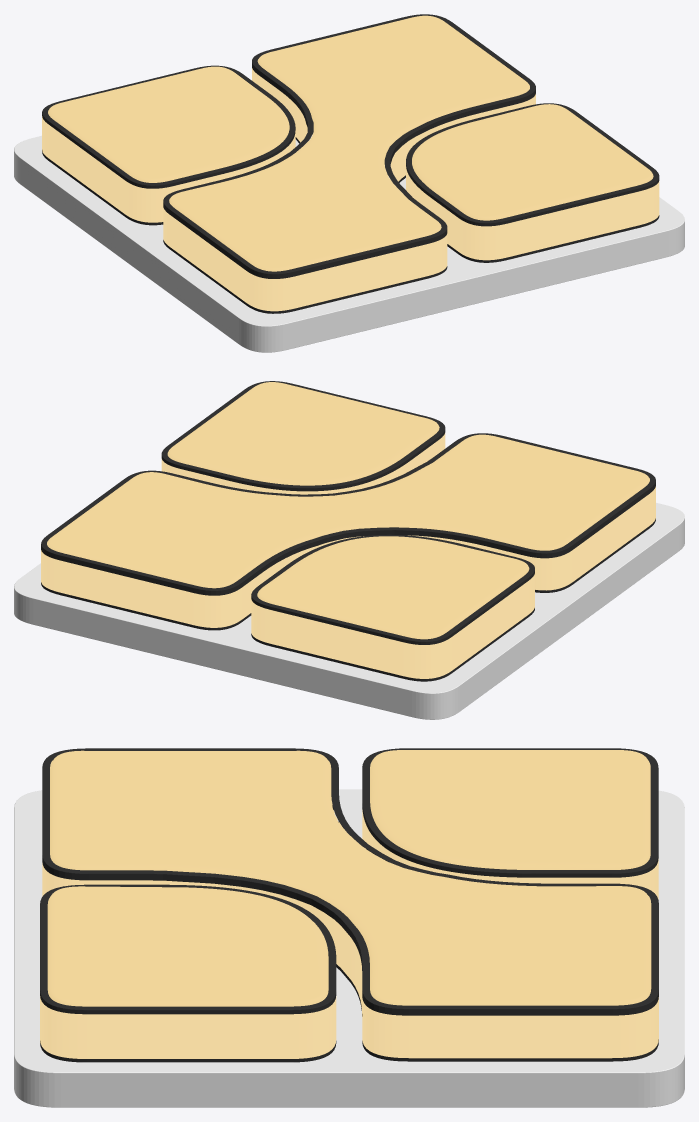
File: 简约风格吸顶灯.fbx
The picture shows the model from 3 angles, top to bottom: view 1: azimuth 30°, elevation 25°; view 2: azimuth 150°, elevation 25°; view 3: azimuth 270°, elevation 25°; orthographic projection. The views are drawn at different scales.
Parts seen in each view (by area): view 1: 对象02, Box01, Box03, 对象03, 对象01, Box04, Box05; view 2: 对象02, Box01, Box03, 对象01, 对象03, Box05, Box04; view 3: 对象02, Box01, 对象01, 对象03, Box03, Box04, Box05.
Part boxes in pixels (box(x1,y1,x2,y2)): 对象02: box(169, 15, 529, 271); Box01: box(14, 135, 684, 352); Box03: box(163, 14, 535, 313); 对象03: box(48, 66, 289, 182); 对象01: box(412, 104, 653, 220); Box04: box(406, 103, 659, 262); Box05: box(42, 65, 295, 225); 对象02: box(47, 434, 649, 588); Box01: box(14, 503, 684, 719); Box03: box(41, 433, 655, 630); 对象01: box(167, 382, 439, 485); 对象03: box(257, 536, 529, 639); Box05: box(251, 534, 534, 681); Box04: box(161, 381, 445, 494); 对象02: box(50, 750, 651, 1005); Box01: box(14, 789, 684, 1107); 对象01: box(47, 886, 328, 1006); 对象03: box(370, 750, 650, 869); Box03: box(42, 748, 658, 1061); Box04: box(40, 884, 336, 1062); Box05: box(362, 748, 658, 899).
Size of the model in its own units: 865 by 130 by 865.
